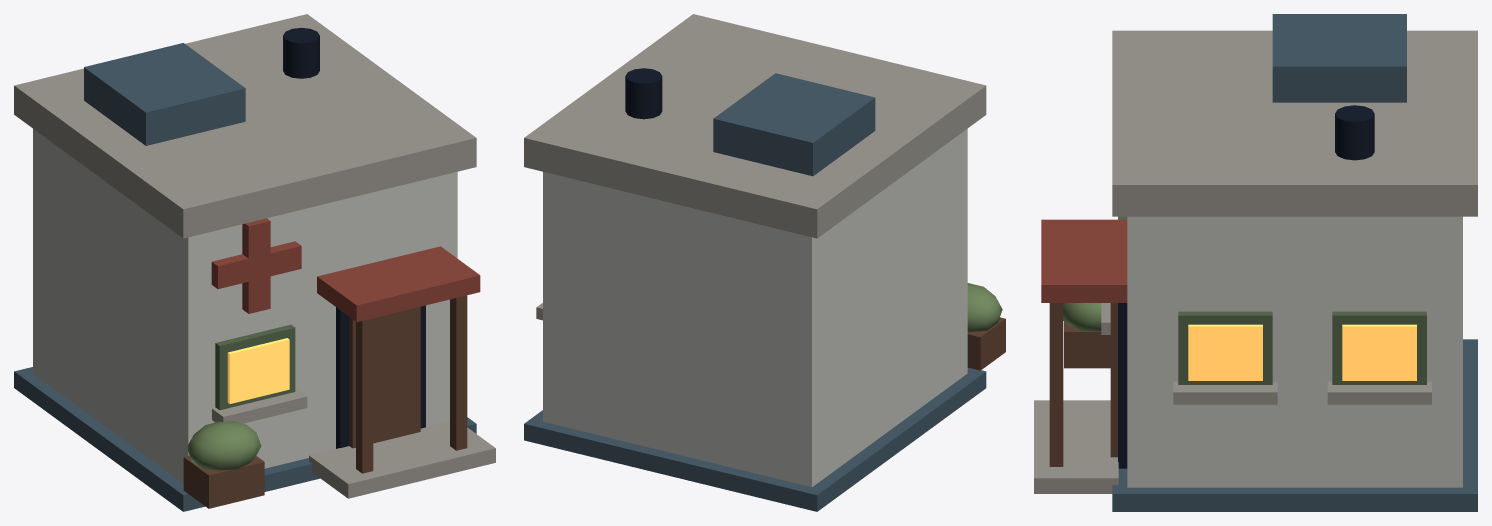
File: clinic-corner.glb
3 renders of one model, left to right at view 1: azimuth 30°, elevation 25°; view 2: azimuth 150°, elevation 25°; view 3: azimuth 270°, elevation 25°, orthographic. The views are drawn at different scales.
Visible parts, largest first — view 1: ClinicShell, ClinicWindowGlow; view 2: ClinicShell; view 3: ClinicShell, ClinicWindowGlow.
Part boxes in pixels (x1,y1,x2,y2): ClinicShell: [14, 14, 495, 511]; ClinicWindowGlow: [227, 338, 289, 403]; ClinicShell: [524, 14, 1005, 511]; ClinicShell: [1034, 14, 1477, 511]; ClinicWindowGlow: [1188, 324, 1416, 380].
Bounding box in the file's own units: 1.53 × 1.64 × 1.78.
